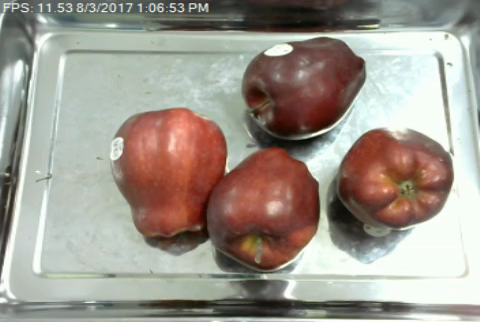Apple: (107, 106, 229, 241), (202, 144, 322, 274), (236, 34, 369, 142), (332, 123, 458, 233)
